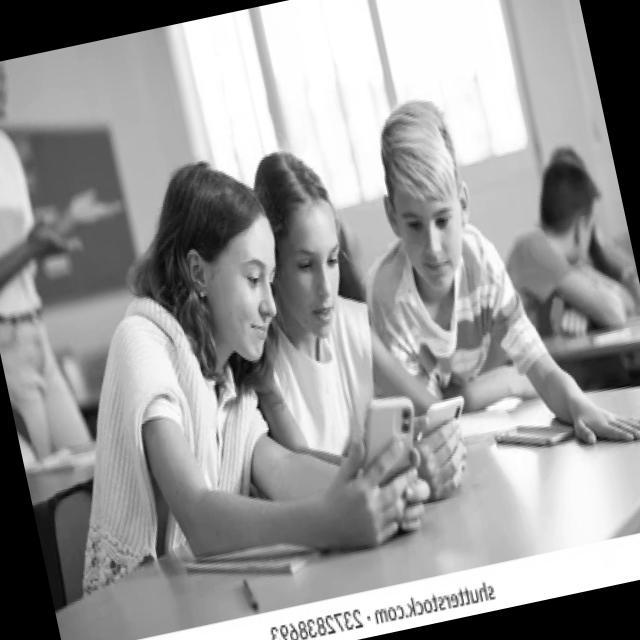phone: (348, 390, 430, 490), (493, 412, 577, 456), (411, 392, 472, 442)
